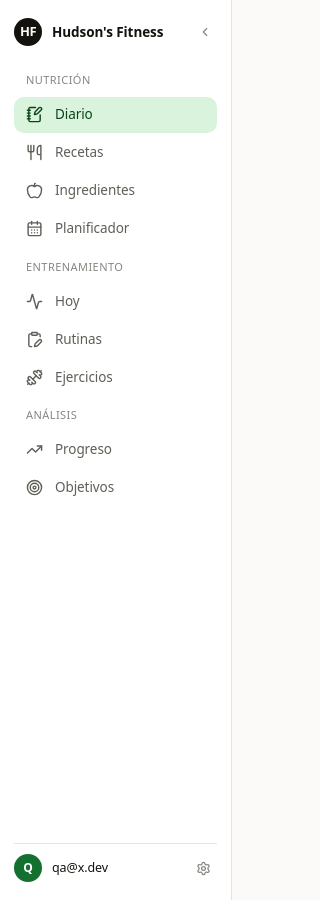
Test: AppSidebar › collapse toggle persists to localStorage and hides labels
Step 1. Click the button named "Contraer menú" → (205, 32), box [193,20,217,44]
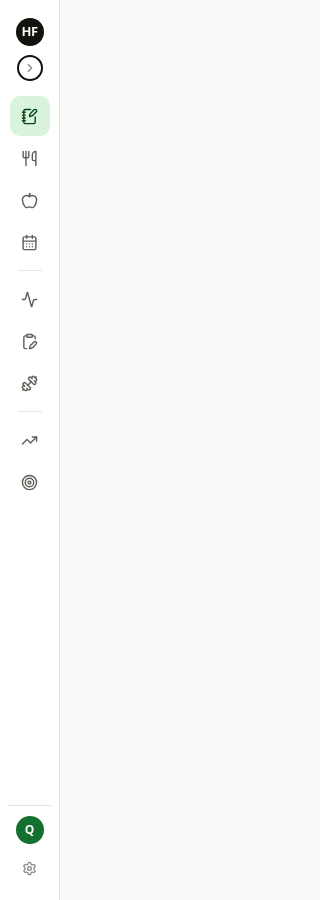
Expected: the link "Diario" is gone
Expected: the text "Nutrición" is gone
Expected: the button named "Expandir menú" is shown, [18,56,42,80]
